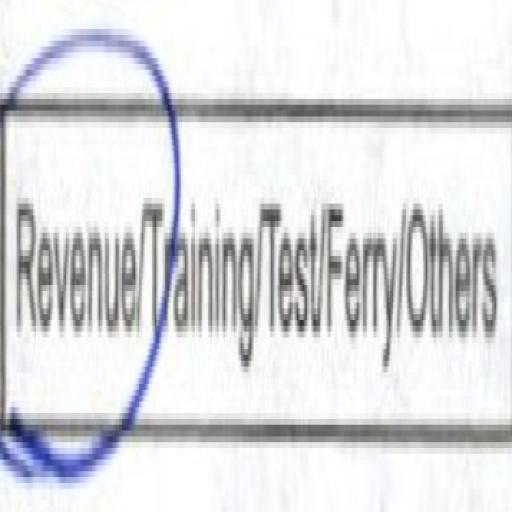check: (1, 26, 141, 505)
